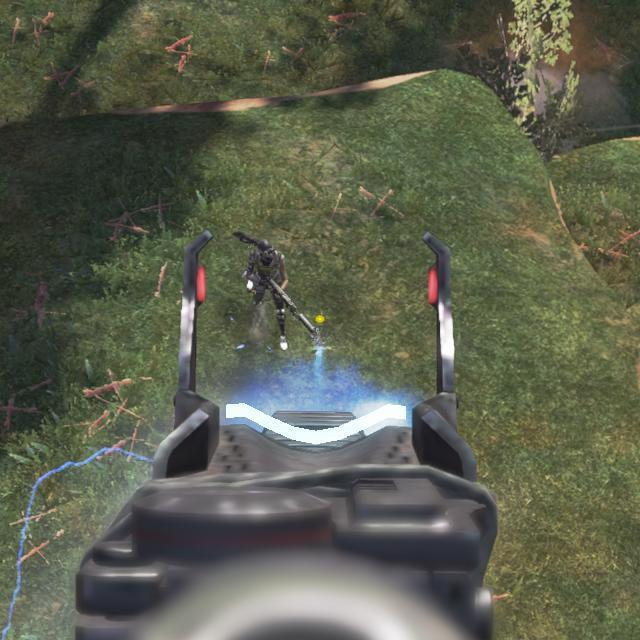avatar: (243, 239, 291, 351)
